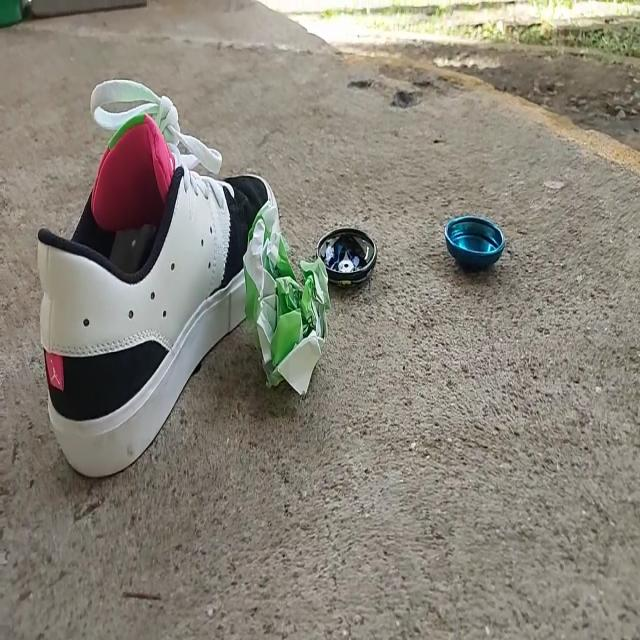paper: (244, 182, 332, 404)
